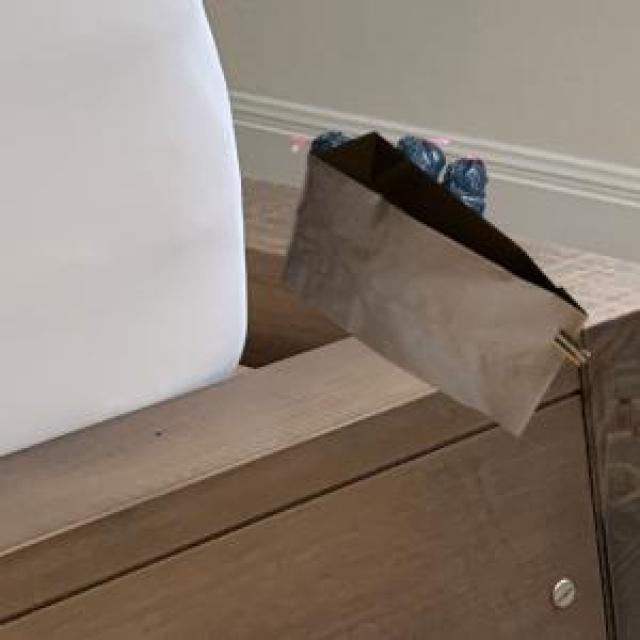miscellaneous trash: (305, 128, 484, 213)
paper: (273, 128, 585, 431)
